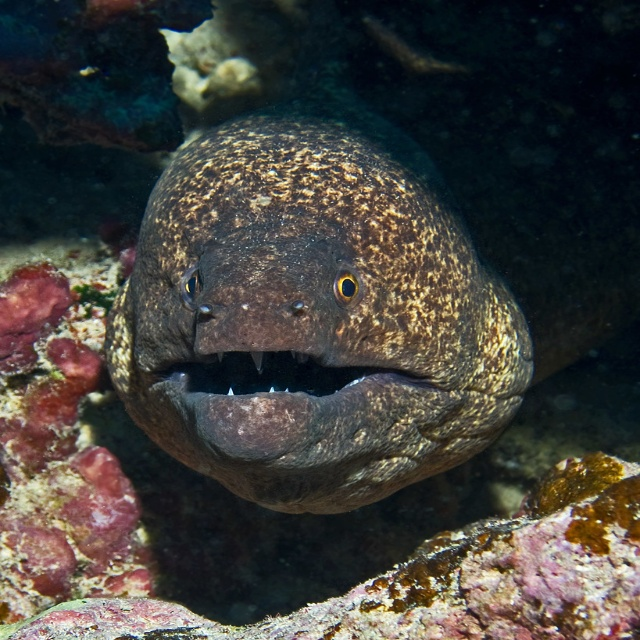Fish: (79, 81, 547, 530)
